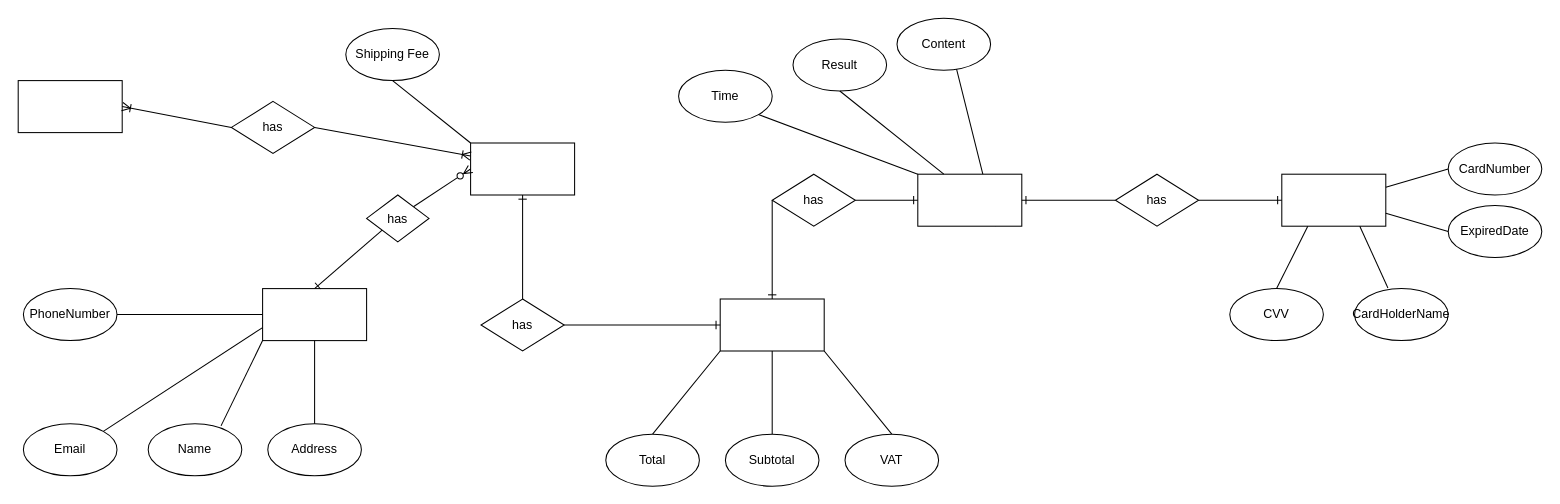
Some shapes in this 1560 by 504 pixel diagram are drawn without their labels. Each missing label, with the centre of its shape:
"Card" belongs at pixel 1333 199.
"DeliveryInfo" belongs at pixel 314 314.
"Invoice" belongs at pixel 771 324.
"Media" belongs at pixel 69 106.
"Order" belongs at pixel 522 168.
"Payment Transaction" belongs at pixel 969 199.
